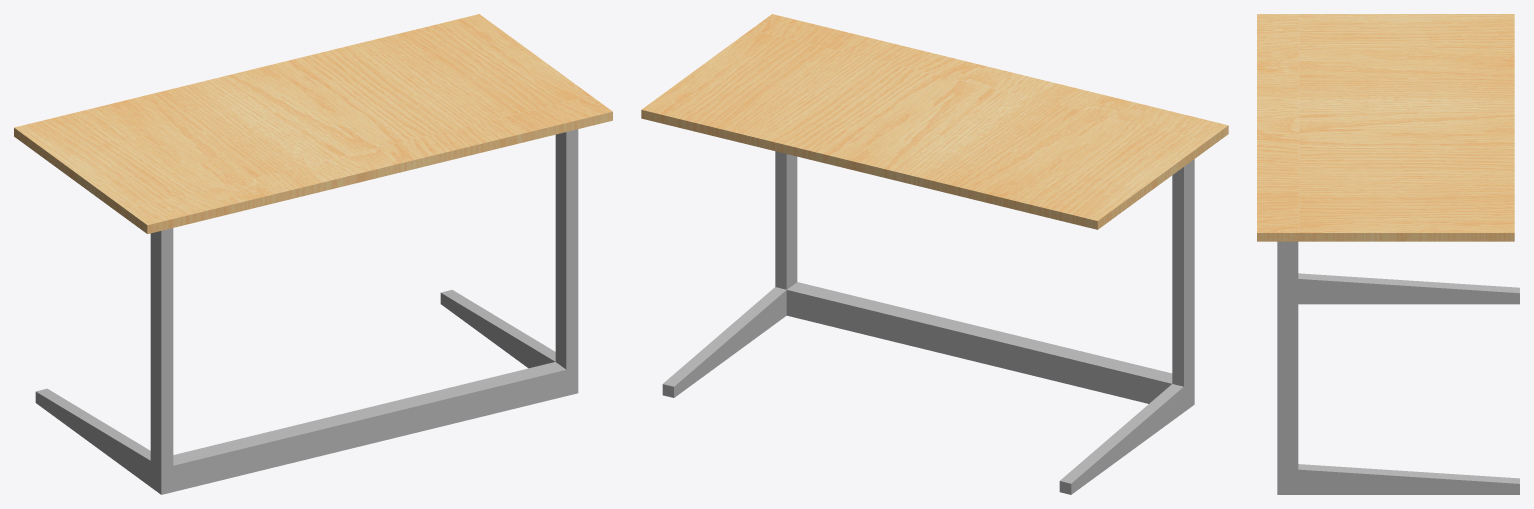
Rendered from tinyWoodTable.fbx.
The picture shows the model from 3 angles, left to right: view 1: azimuth 30°, elevation 25°; view 2: azimuth 150°, elevation 25°; view 3: azimuth 270°, elevation 25°; orthographic projection. The views are drawn at different scales.
Visible parts, largest first — view 1: MSH_table3; view 2: MSH_table3; view 3: MSH_table3.
Part boxes in pixels (x1=…): MSH_table3: x1=14, y1=14, x2=612, y2=494; MSH_table3: x1=641, y1=14, x2=1228, y2=494; MSH_table3: x1=1257, y1=14, x2=1519, y2=494.
Size of the model in its own units: 8.13 by 4.73 by 4.12.
